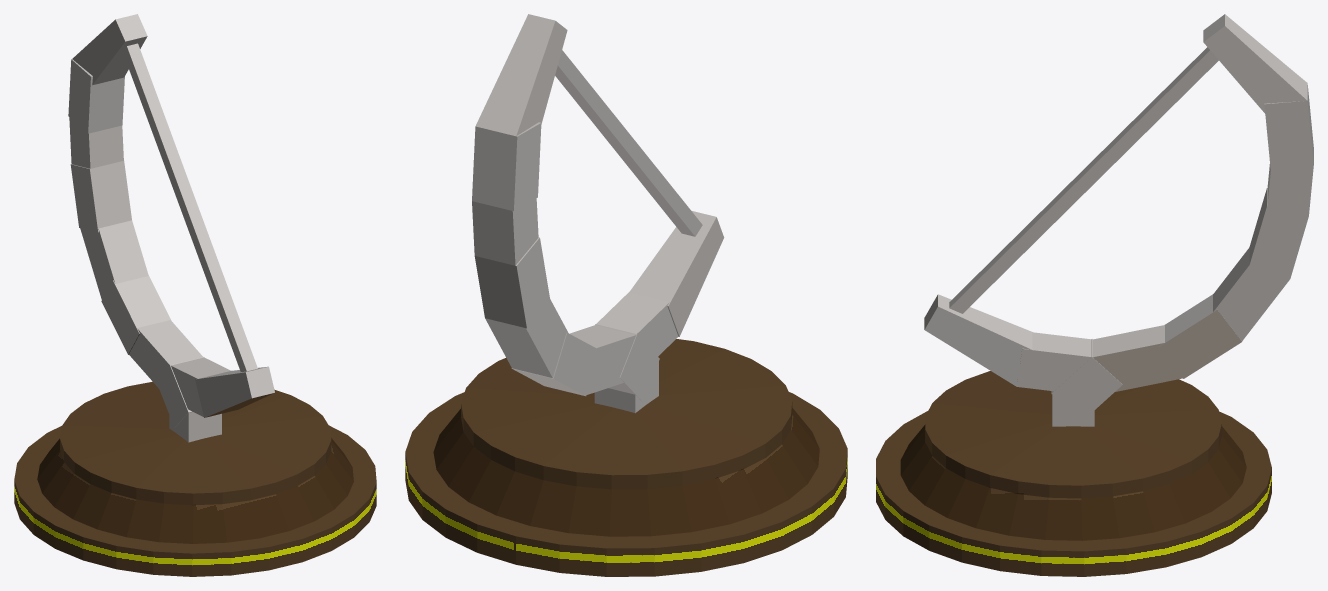
The model's file is globe_Stand.gltf.
3 renders of one model, left to right at view 1: azimuth 30°, elevation 25°; view 2: azimuth 150°, elevation 25°; view 3: azimuth 270°, elevation 25°, orthographic. The views are drawn at different scales.
Visible parts, largest first — view 1: base, cube (×12); view 2: base, cube (×12); view 3: base, cube (×12).
Part boxes in pixels (x1=…): base: x1=14, y1=381, x2=376, y2=576; cube (×12): x1=68, y1=14, x2=274, y2=442; base: x1=405, y1=339, x2=847, y2=576; cube (×12): x1=472, y1=14, x2=724, y2=413; base: x1=876, y1=371, x2=1271, y2=576; cube (×12): x1=924, y1=14, x2=1313, y2=426.
Size of the model in its own units: 0.8794 by 1.16 by 0.9708.
